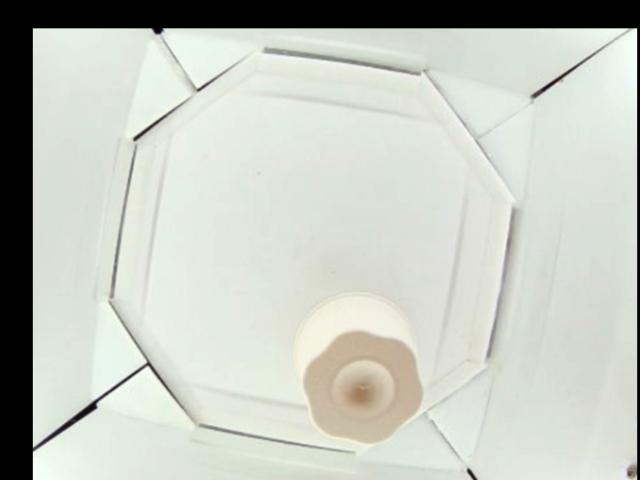Cup: (293, 291, 422, 447)
